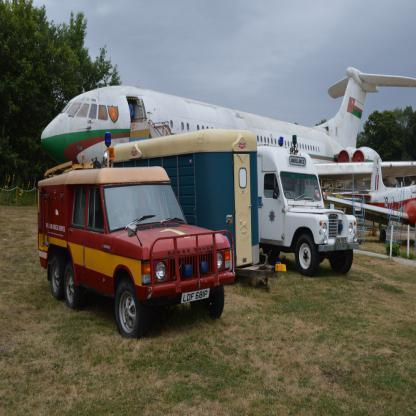Ambulance - v1 Ambulance last generate: (257, 135, 360, 276)
